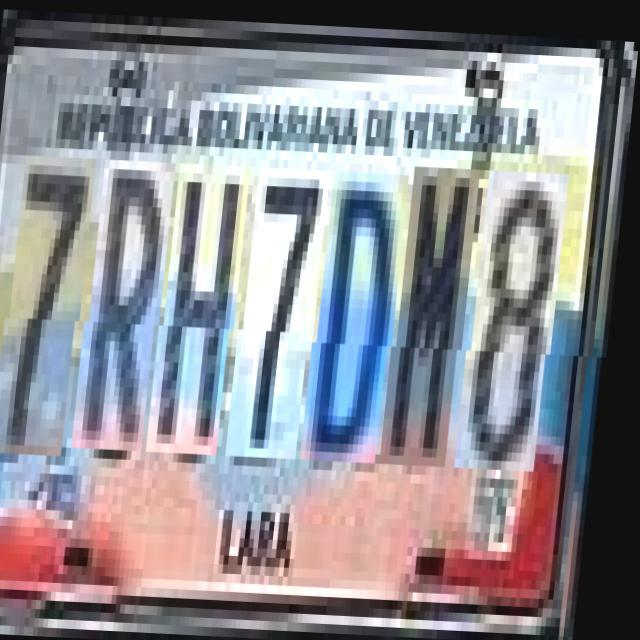7: (5, 155, 100, 455), (239, 164, 333, 456)
8: (468, 164, 572, 466)
D: (314, 168, 412, 460)
H: (160, 162, 253, 452)
M: (394, 162, 484, 462)
R: (85, 158, 179, 450)
